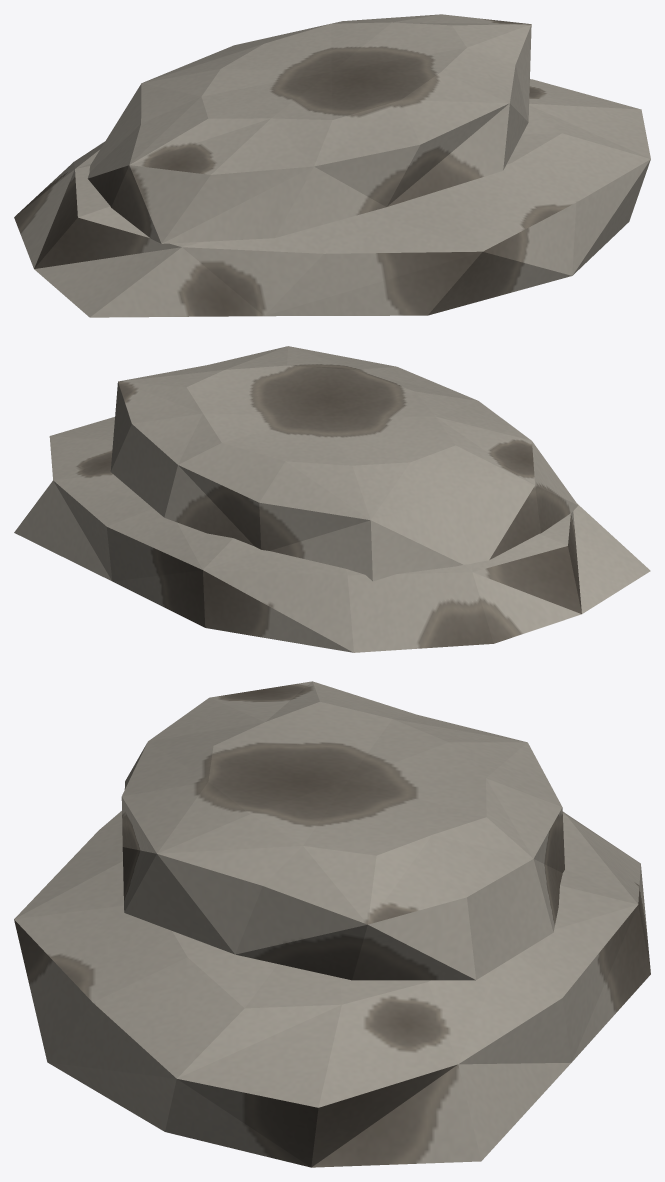
File: CommonStone_Loose_B.fbx
3 views of the same model, one above another, from view 1: azimuth 30°, elevation 25°; view 2: azimuth 150°, elevation 25°; view 3: azimuth 270°, elevation 25° (orthographic). The views are drawn at different scales.
Parts seen in each view (by area): view 1: CommonStone_Loose_B_LOD0; view 2: CommonStone_Loose_B_LOD0; view 3: CommonStone_Loose_B_LOD0.
Boxes of the visible parts, x1,y1,x2,y2 form: CommonStone_Loose_B_LOD0: (14,14,650,317); CommonStone_Loose_B_LOD0: (14,346,650,652); CommonStone_Loose_B_LOD0: (14,681,650,1167).
Size of what is drawn, in the model's own units: 279 by 79.23 by 195.
